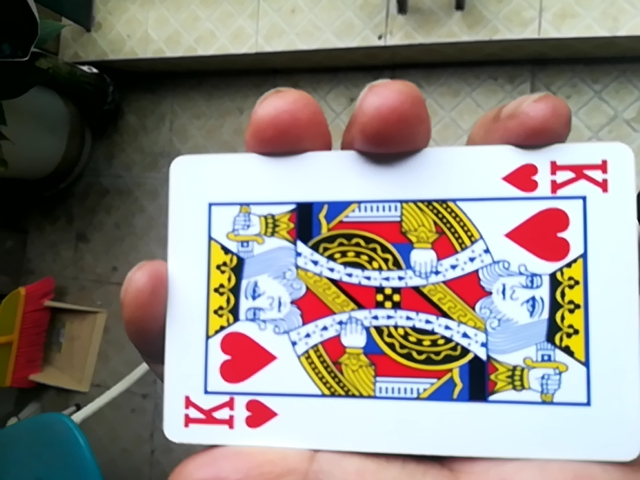hx k: (147, 149, 634, 462)
